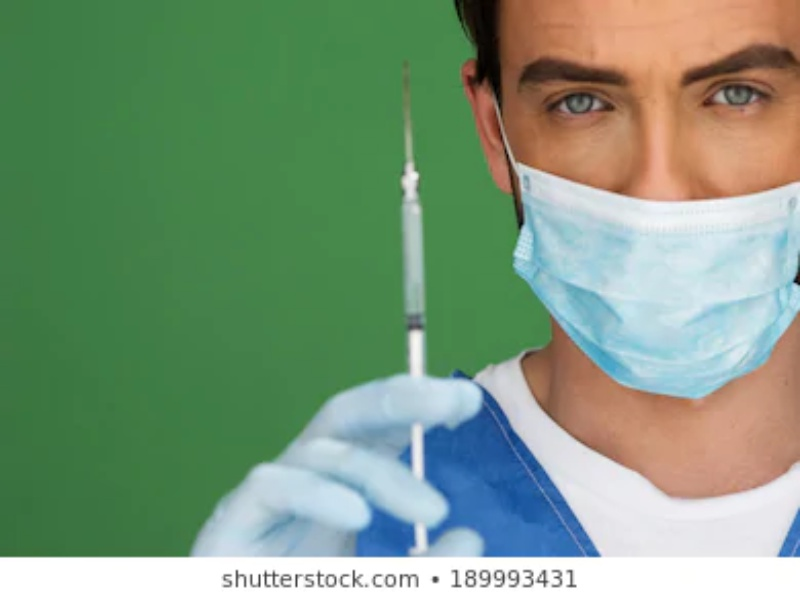ManaoArotava: (443, 5, 800, 408)
